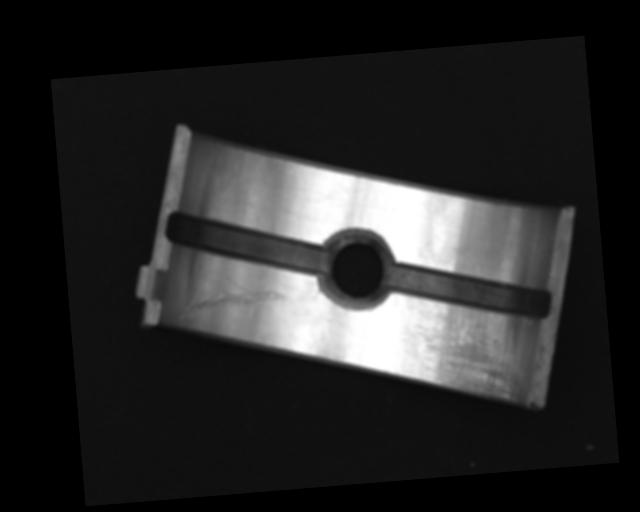gap: (164, 199, 330, 289), (384, 254, 554, 331)
hole: (317, 228, 395, 310)
nick: (173, 270, 289, 324)
scratch: (416, 302, 528, 412)
